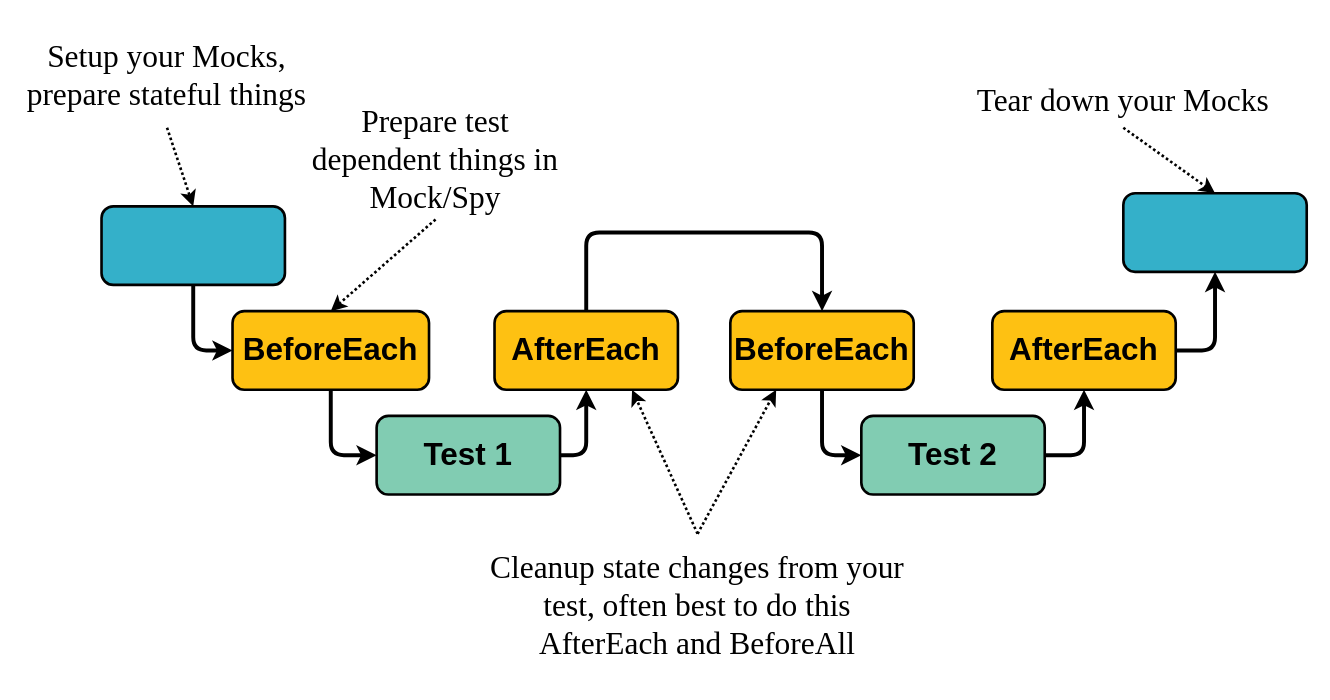
The diagram is 1330 pixels wide and 700 high, and some of its shapes have lost their labels. Here are the shapes that lost their labels. From the top down, the centre of each, then its label:
At pixel 193 245: "Before All".
At pixel 1214 231: "AfterAll".
